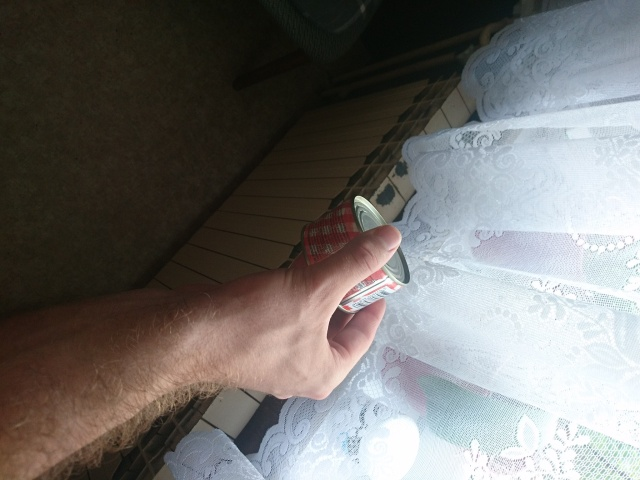Podravka Luncheon Meat 150g: (296, 191, 415, 317)
